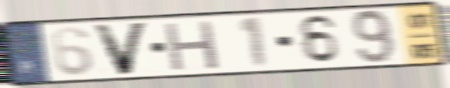1: (238, 15, 268, 71)
6: (49, 25, 97, 78), (298, 14, 340, 66)
9: (350, 8, 399, 67)
H: (162, 18, 223, 73)
V: (89, 21, 152, 78)
